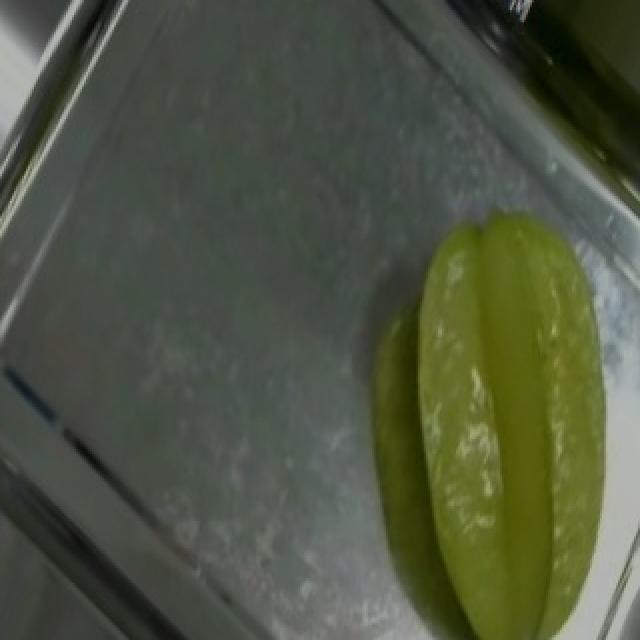fruit: (382, 164, 640, 593)
